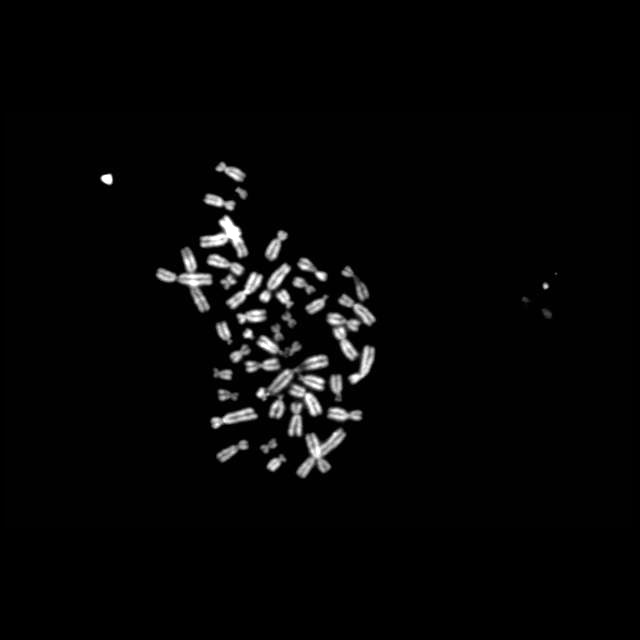chromosome: (297, 428, 349, 479), (269, 355, 329, 397), (179, 245, 209, 312), (226, 271, 262, 311), (259, 262, 291, 304), (218, 215, 248, 258), (338, 294, 376, 326), (256, 332, 302, 358), (348, 346, 376, 386), (303, 431, 331, 471), (209, 406, 259, 428), (156, 268, 214, 286), (289, 385, 323, 415), (198, 226, 242, 248), (332, 326, 360, 360), (342, 265, 368, 301), (208, 252, 245, 276), (215, 159, 245, 183), (297, 257, 327, 281), (265, 229, 287, 261), (216, 440, 248, 462), (328, 406, 364, 424), (326, 313, 359, 332), (202, 193, 236, 211), (244, 357, 282, 373), (289, 402, 305, 438), (298, 372, 326, 392), (328, 374, 346, 404), (215, 321, 235, 345), (268, 393, 286, 419), (235, 310, 267, 324), (306, 294, 328, 314), (266, 454, 288, 474), (229, 343, 251, 362), (292, 277, 316, 293), (277, 291, 295, 309), (220, 274, 238, 290), (260, 438, 278, 454), (218, 388, 238, 402), (282, 309, 296, 327), (214, 367, 232, 381), (272, 322, 284, 342), (233, 185, 249, 199), (256, 386, 270, 402), (242, 328, 254, 340)
